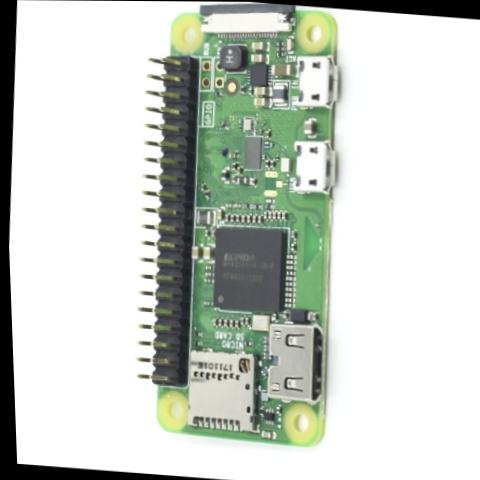Raspberry-Pi-Zero-WH: (117, 1, 353, 448)
